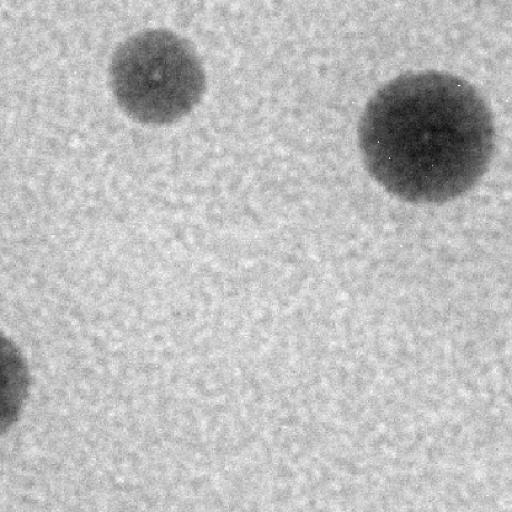Nanoparticles: (354, 66, 497, 208), (106, 27, 208, 130), (0, 326, 33, 435)
